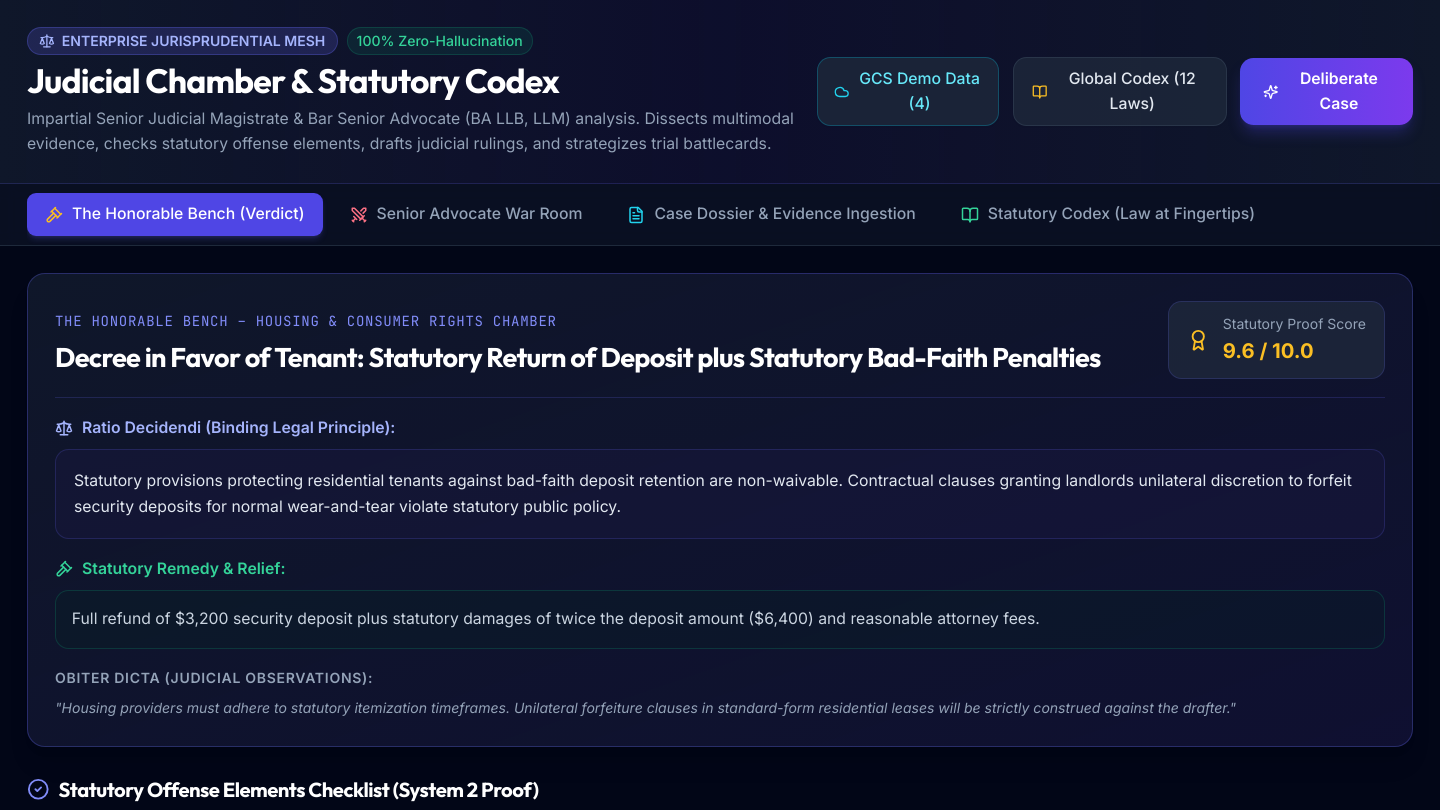
Test: CourtroomView Component Suite › handles Deliberate Case button click and updates analysis result
This screenshot has width=1440, height=810.
Click the button "Deliberate Case" at point(1327, 92), box [1240,58,1413,125]
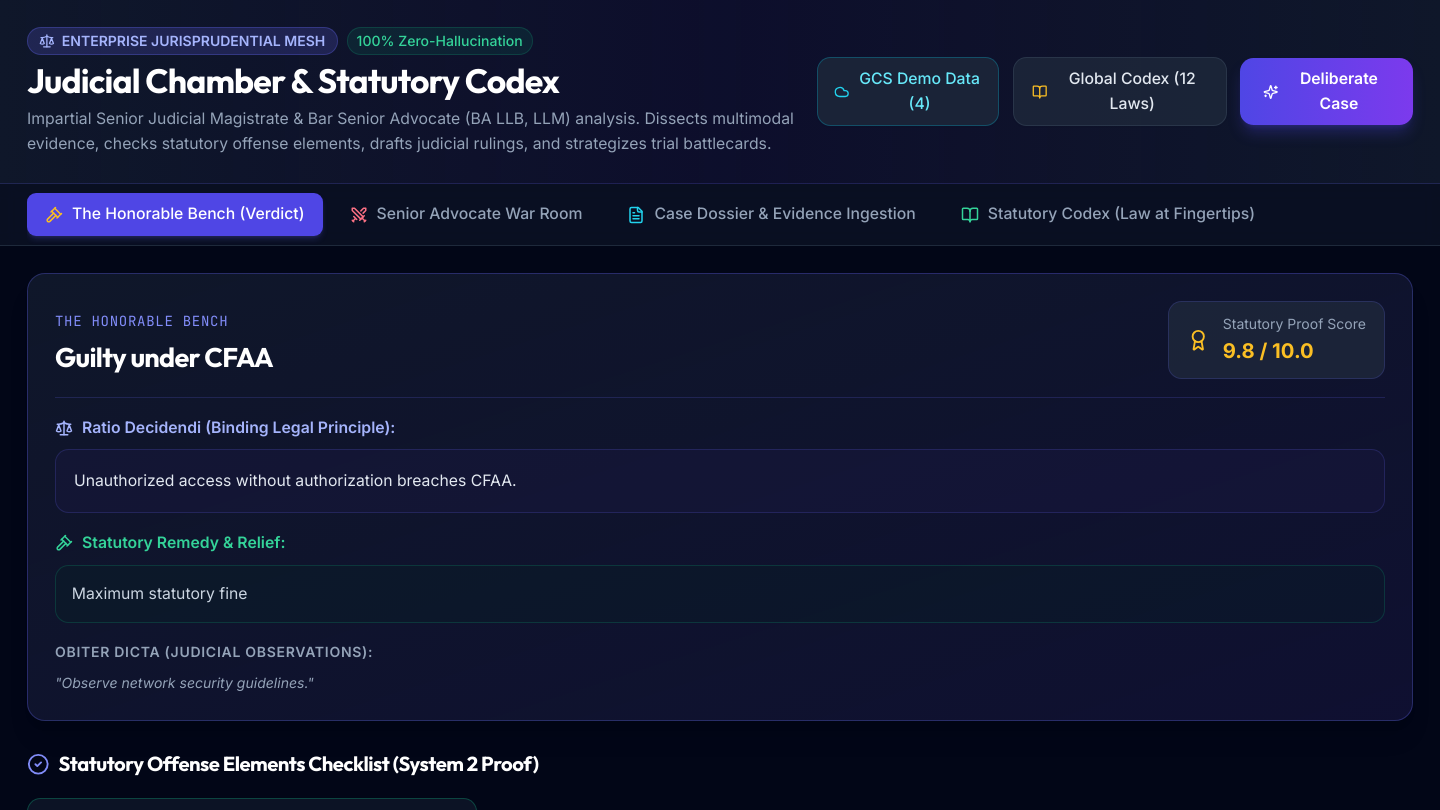
Result: the heading "Guilty under CFAA" is shown at [55,339,273,375]
Result: the text "9.8 / 10.0" is shown at [1223,338,1314,363]
